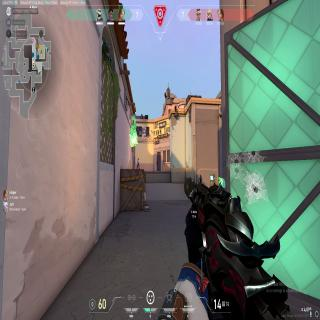ENEMY-BODY: (136, 156, 140, 170)
ENEMY-HEAD: (138, 157, 140, 161)
